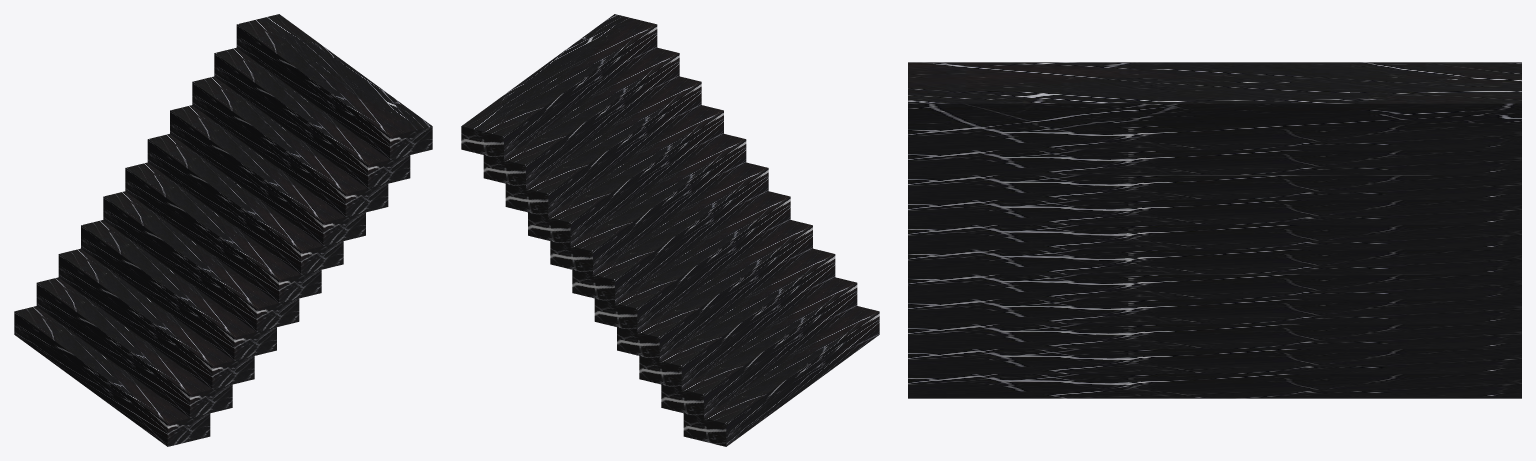
Rendered from PlainJaneStaircase.fbx.
3 renders of one model, left to right at view 1: azimuth 30°, elevation 25°; view 2: azimuth 150°, elevation 25°; view 3: azimuth 270°, elevation 25°, orthographic. The views are drawn at different scales.
Visible parts, largest first — view 1: Basiccase; view 2: Basiccase; view 3: Basiccase.
Boxes of the visible parts, bbox=[...] form: Basiccase: bbox=[14, 14, 432, 446]; Basiccase: bbox=[461, 14, 879, 446]; Basiccase: bbox=[908, 62, 1521, 398].
Bounding box in the file's own units: 11.92 × 11 × 11.95.
1 material, 1 textured.
